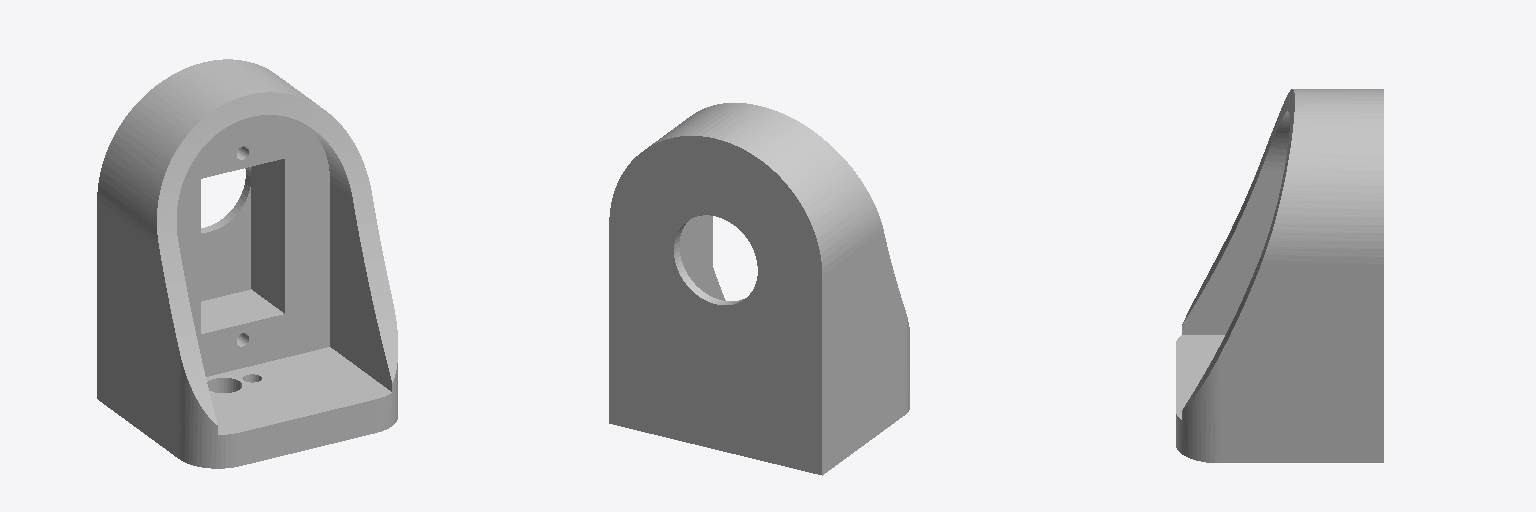
Rendered from fabconvert_com_arm_03_obj.obj.
3 renders of one model, left to right at view 1: azimuth 30°, elevation 25°; view 2: azimuth 150°, elevation 25°; view 3: azimuth 270°, elevation 25°, orthographic.
Parts seen in each view (by area): view 1: fabconvert.com_arm_03_obj; view 2: fabconvert.com_arm_03_obj; view 3: fabconvert.com_arm_03_obj.
Boxes of the visible parts, x1=… form: fabconvert.com_arm_03_obj: x1=97, y1=59, x2=397, y2=468; fabconvert.com_arm_03_obj: x1=609, y1=103, x2=909, y2=475; fabconvert.com_arm_03_obj: x1=1176, y1=89, x2=1383, y2=462.
Bounding box in the file's own units: 0.5654 × 0.7881 × 0.4797.